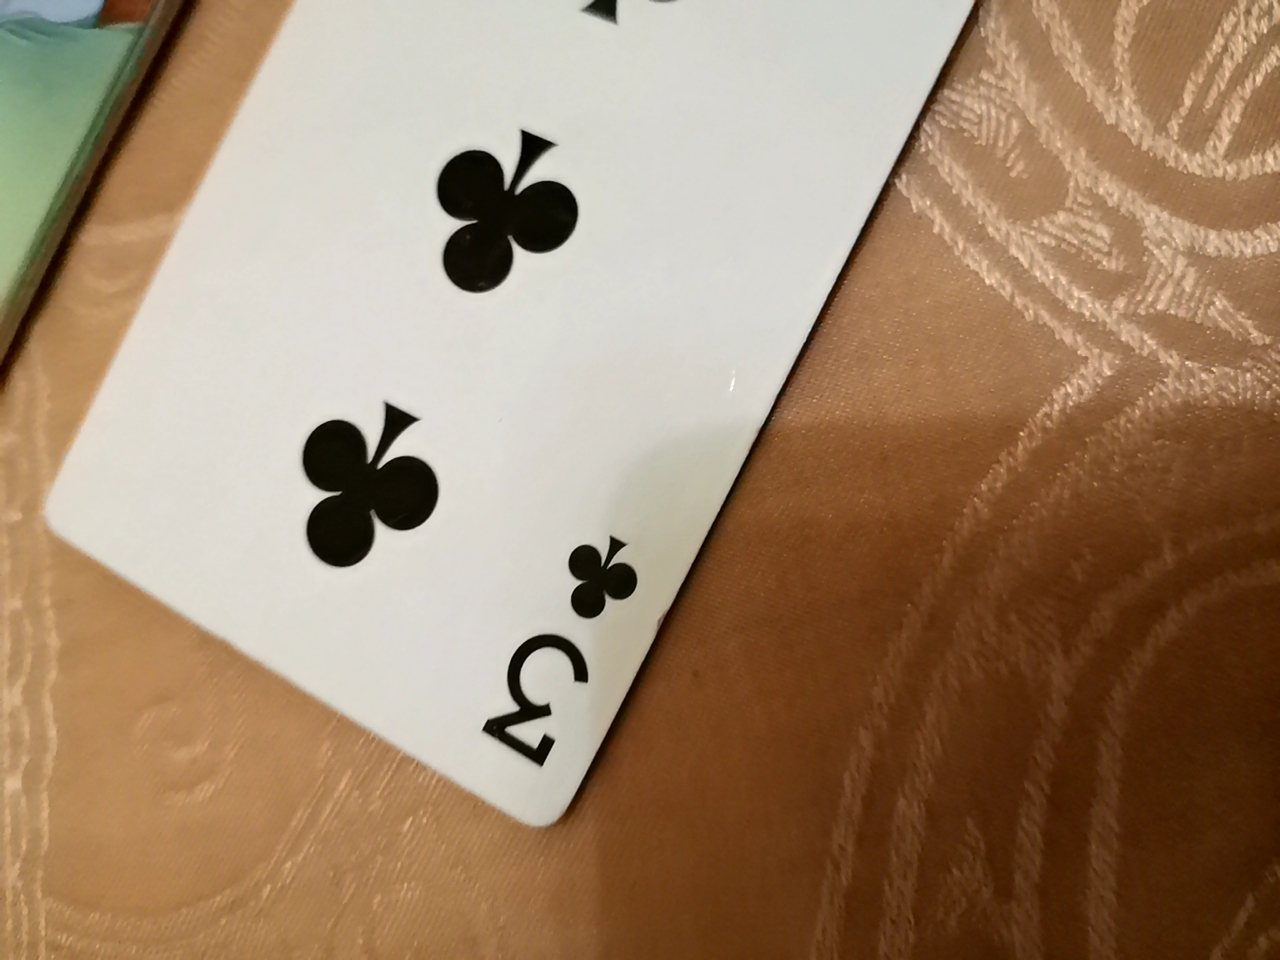mh 3: (0, 7, 1100, 869)
